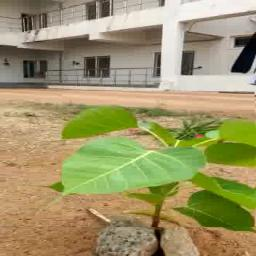LEAVS: (62, 91, 255, 228)
